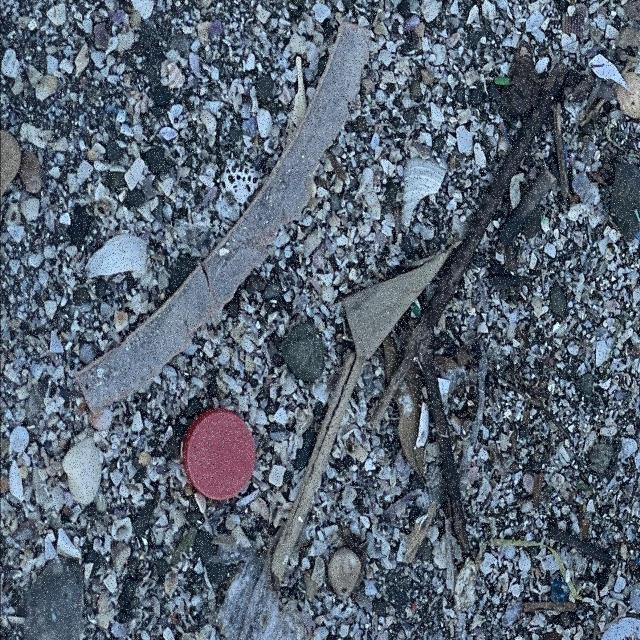plastic_waste: (182, 412, 257, 502)
